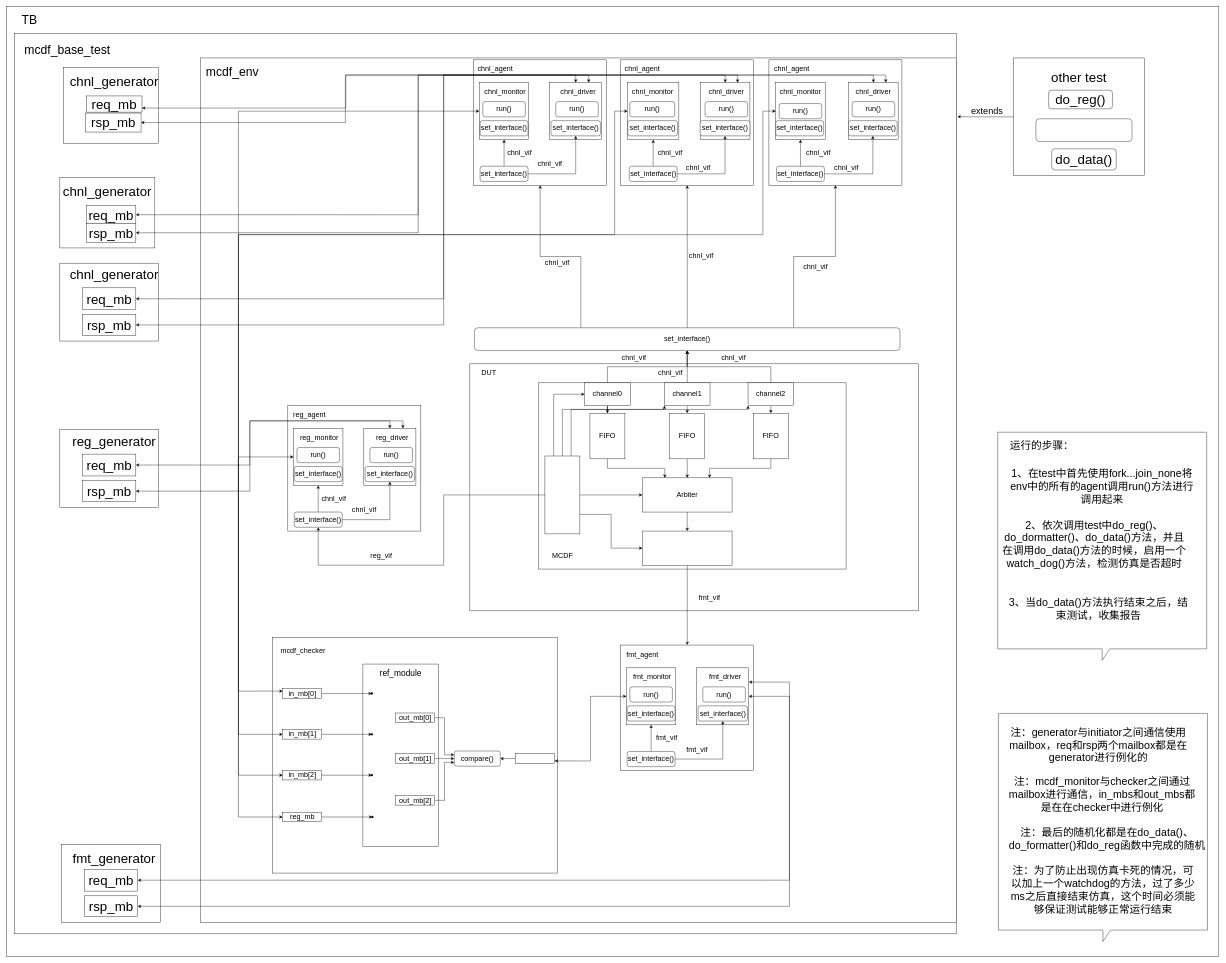
This 1226x963 diagram has some shape labels left out. Here are the shapes that lost their labels. From the top down, the box of each, then its label:
(1036, 118, 1132, 142): do_formatter()
(545, 456, 580, 534): reg
(642, 531, 732, 565): Formatter
(515, 753, 555, 763): out_mb
